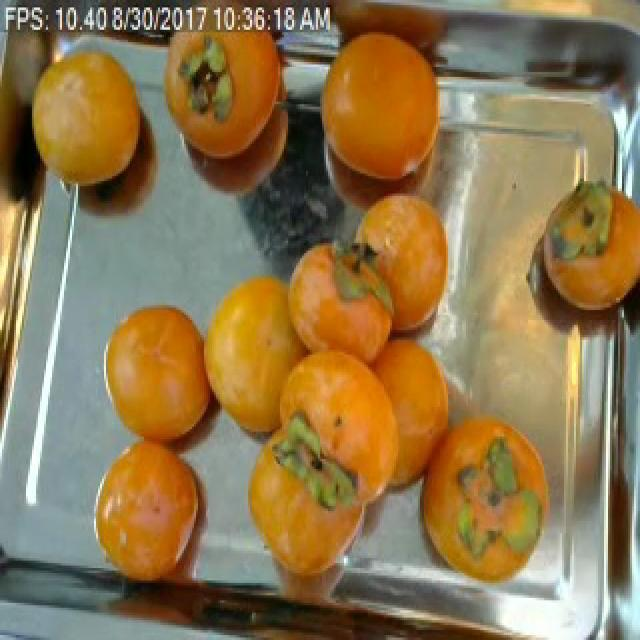Fruit: (82, 429, 228, 598), (22, 30, 160, 203), (94, 290, 230, 462)
